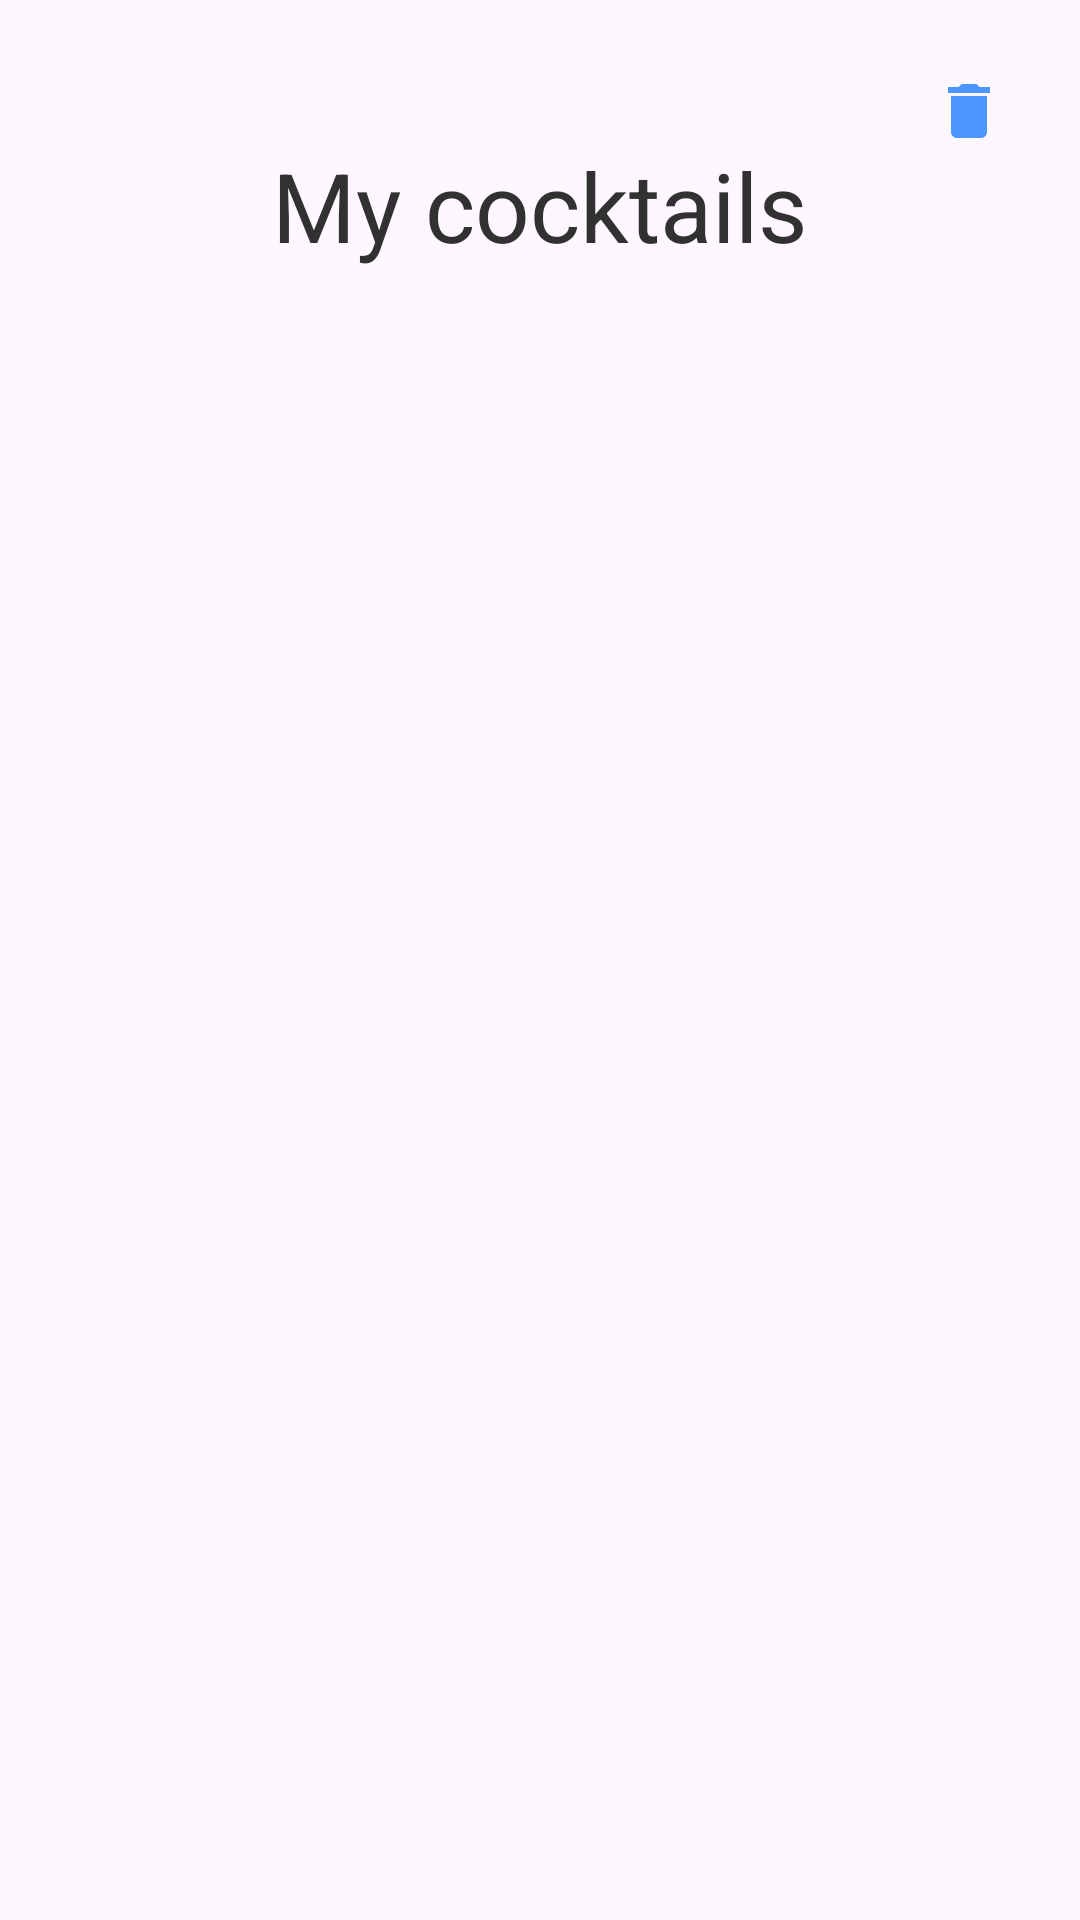

Icons on this 1080px×1920px Android screen, each with its box as (x1, y1, x2, y2):
delete: (948, 84, 990, 138)
